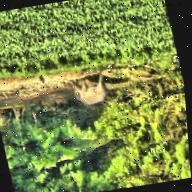boar: (59, 67, 117, 113)
